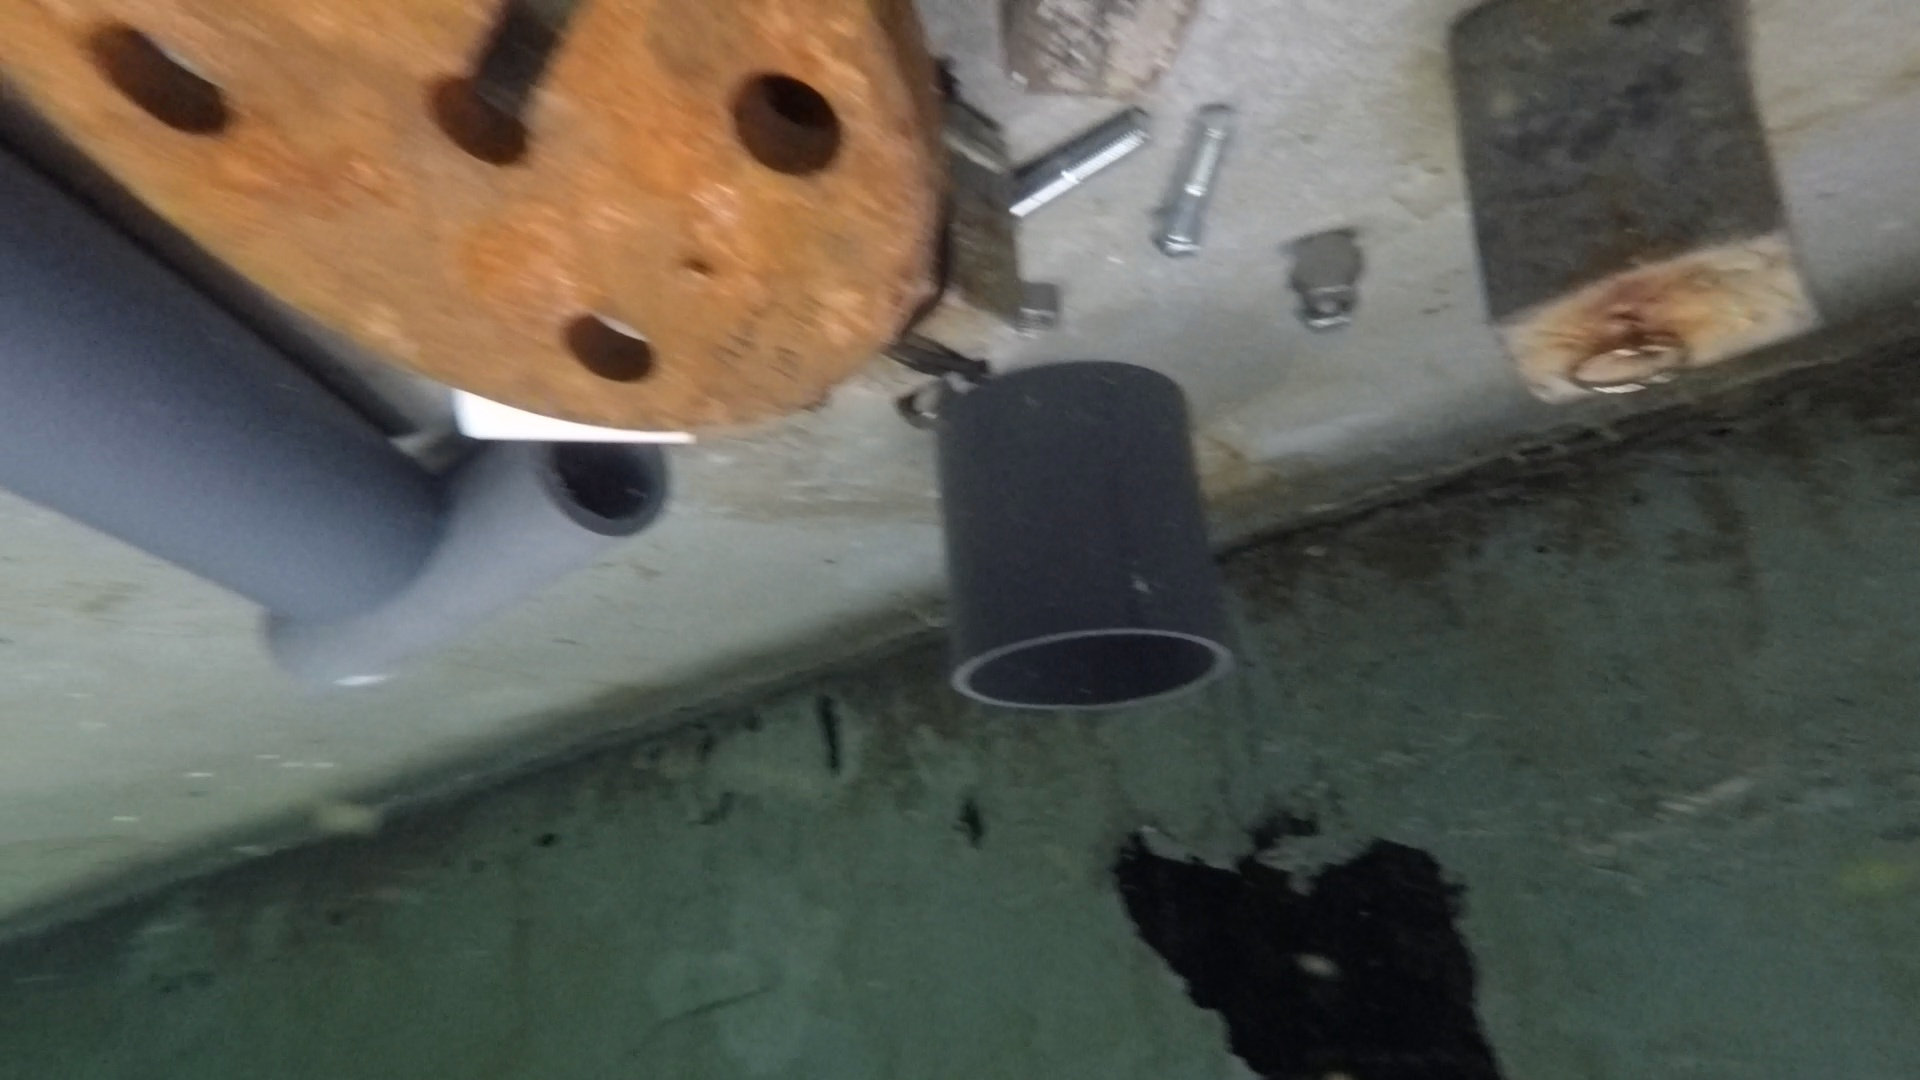bolt: (1010, 107, 1153, 222), (1154, 105, 1236, 255), (1292, 232, 1357, 335)
flange: (1, 1, 949, 434)
led_block: (1447, 1, 1830, 410), (844, 66, 1021, 400), (998, 1, 1191, 103)
nut: (894, 378, 949, 430), (1021, 284, 1062, 343), (1290, 303, 1354, 334)
pipe: (1, 149, 448, 625), (262, 434, 669, 692), (943, 363, 1240, 715), (450, 380, 696, 444)
